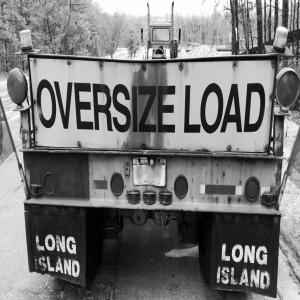Vehicle-registration-plate: (133, 157, 167, 189)
